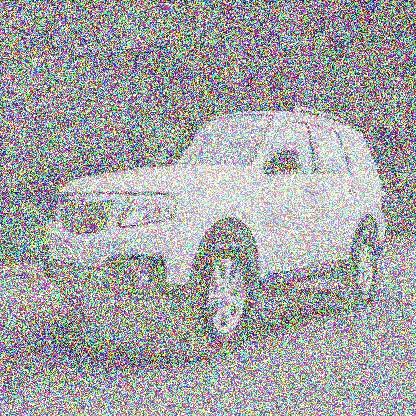Vehicle: (41, 106, 390, 359)
